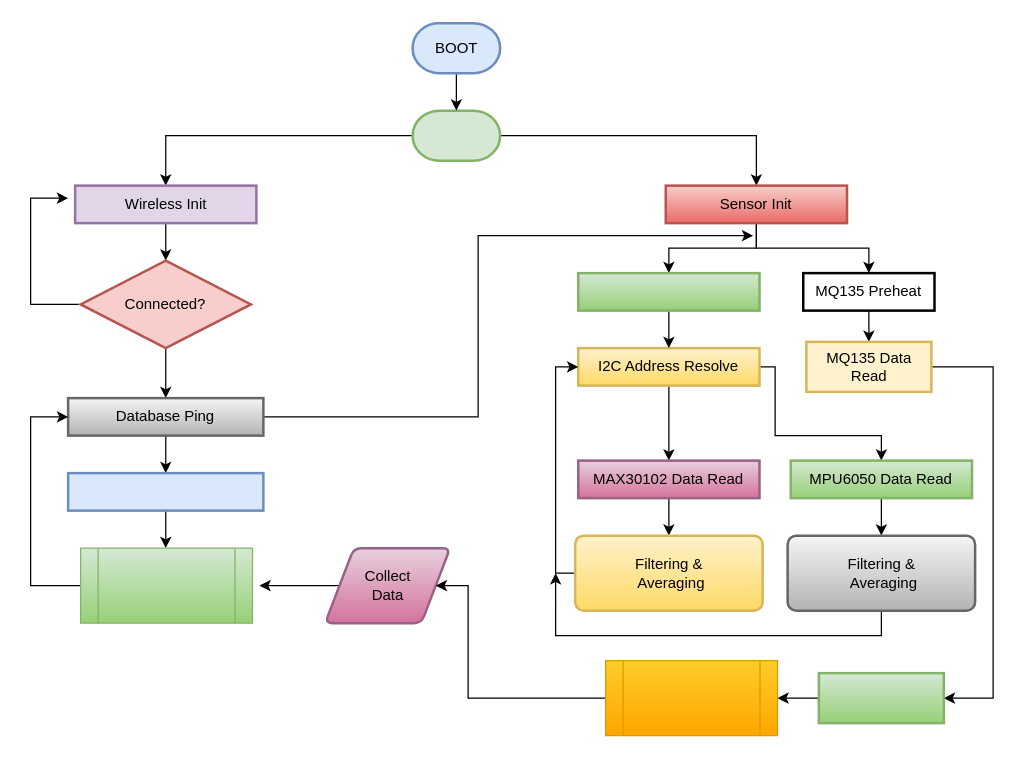
Image size: 1025x758. Some labels were removed from this diagram. Here are the shapes that lost their labels. From the top down, the box of each, then its label:
(411, 109, 501, 161): BEGIN
(576, 271, 760, 311): Interface begin
(66, 471, 264, 511): Database Refresh
(79, 547, 252, 623): Transmit Packet
(604, 659, 778, 736): Create Packet
(817, 671, 944, 724): DHT11 Data read
